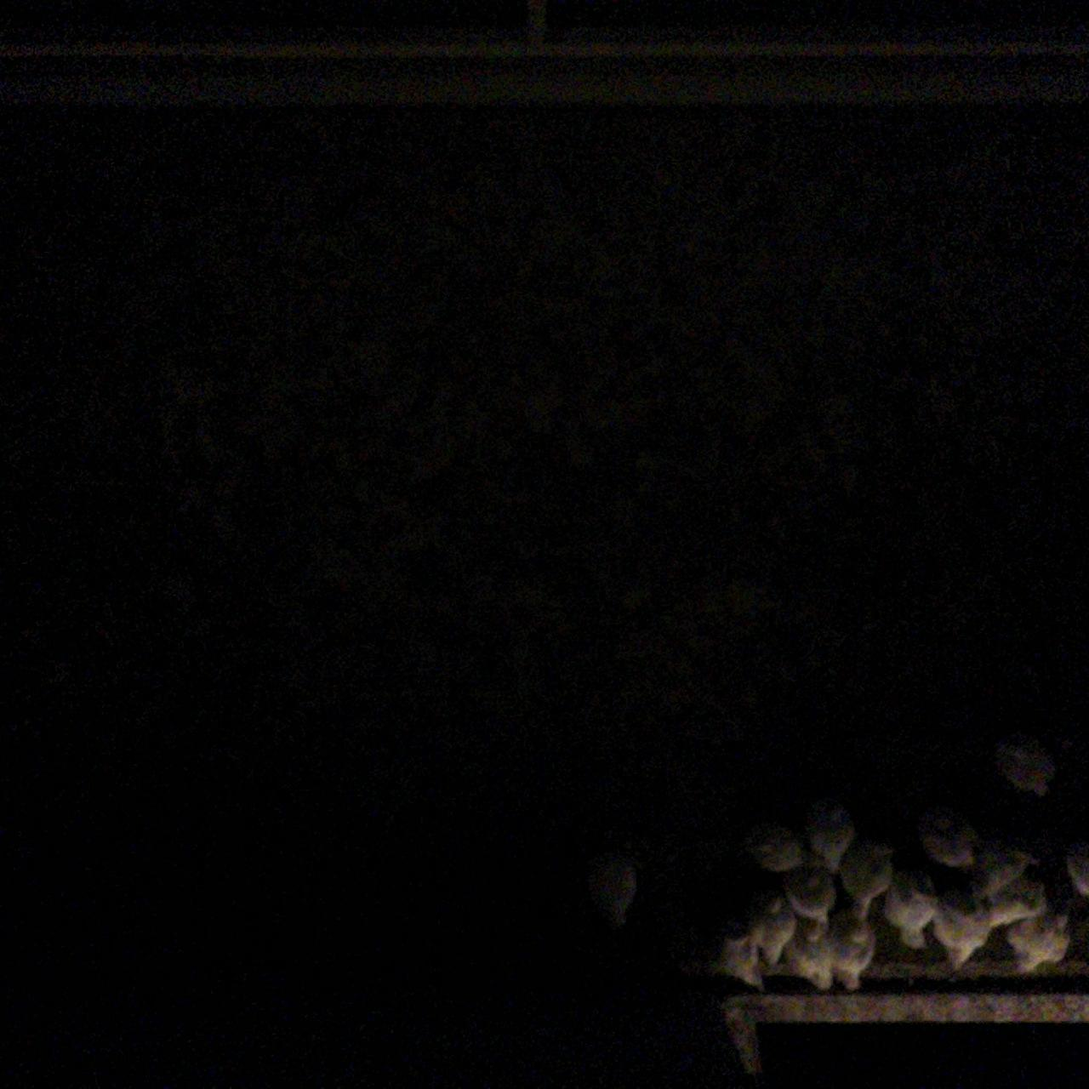chicken: (580, 840, 642, 929), (775, 854, 835, 941), (817, 907, 878, 991), (831, 834, 891, 919), (799, 792, 859, 872), (990, 733, 1060, 800), (882, 862, 935, 949), (959, 838, 1032, 901), (774, 912, 831, 991), (928, 879, 982, 962), (1008, 904, 1067, 979), (913, 808, 983, 869), (707, 925, 768, 993), (980, 879, 1045, 934), (742, 888, 790, 962), (742, 820, 805, 871), (1060, 831, 1089, 897)
